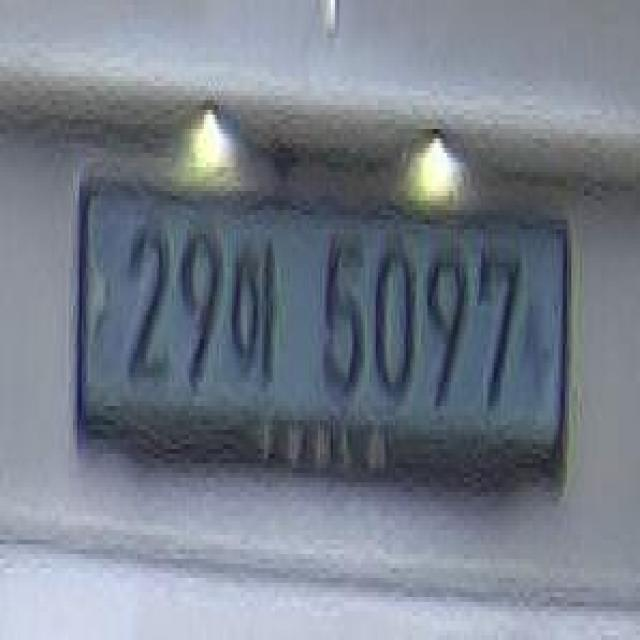EV_plate: (78, 161, 574, 528)
